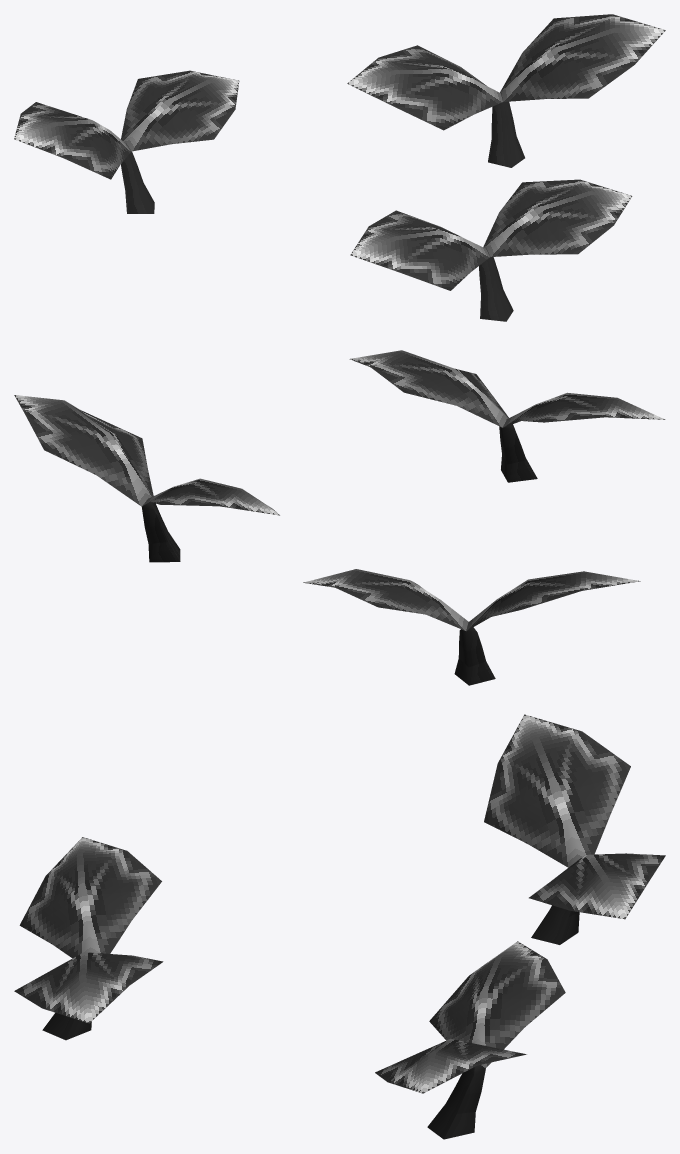
The model's file is PltFlwMumSeedling.glb.
The picture shows the model from 3 angles, top to bottom: view 1: azimuth 30°, elevation 25°; view 2: azimuth 150°, elevation 25°; view 3: azimuth 270°, elevation 25°; orthographic projection. The views are drawn at different scales.
Parts seen in each view (by area): view 1: Mum0A_LeafA_1__mMumBody; view 2: Mum0A_LeafA_1__mMumBody; view 3: Mum0A_LeafA_1__mMumBody.
Boxes of the visible parts, x1,y1,x2,y2 form: Mum0A_LeafA_1__mMumBody: (14, 14, 665, 321); Mum0A_LeafA_1__mMumBody: (14, 350, 665, 685); Mum0A_LeafA_1__mMumBody: (14, 714, 665, 1139).
Size of the model in its own units: 9.73 by 1.72 by 7.3.
Materials: 1 (1 with a texture image).
